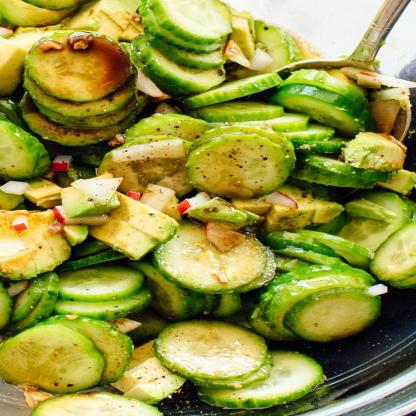--: (201, 55, 388, 186), (152, 213, 289, 301), (23, 28, 141, 117), (4, 322, 136, 391), (143, 324, 281, 386), (138, 0, 233, 90), (56, 271, 164, 325)
